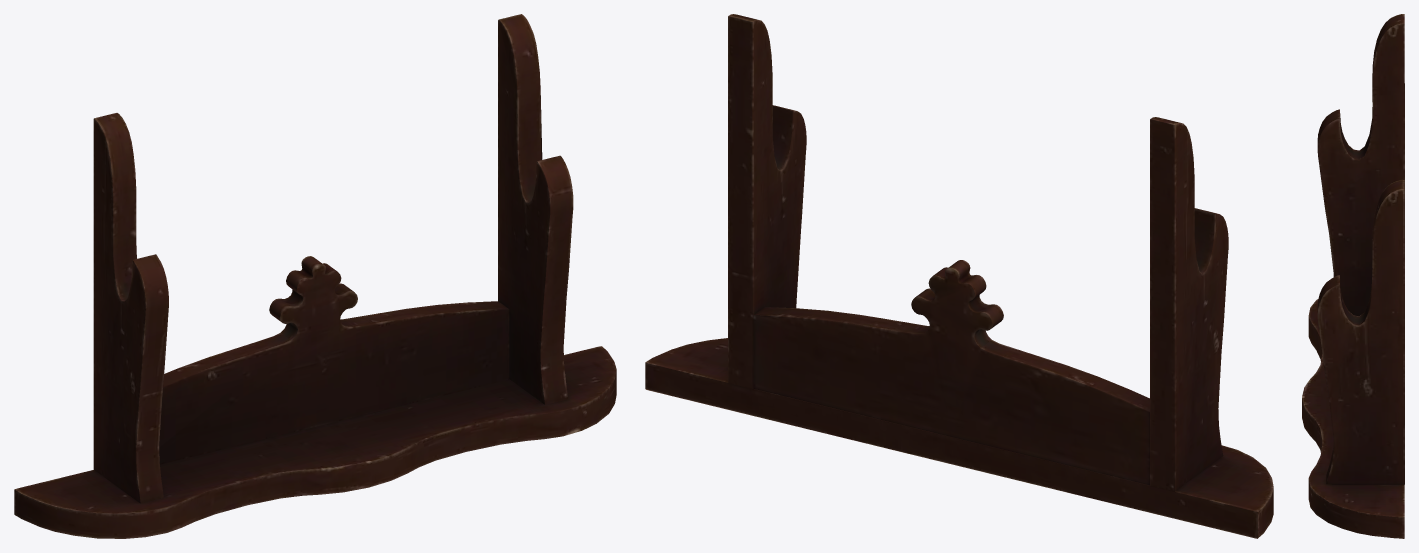
The model's file is katana_stand_01.glb.
3 renders of one model, left to right at view 1: azimuth 30°, elevation 25°; view 2: azimuth 150°, elevation 25°; view 3: azimuth 270°, elevation 25°, orthographic. The views are drawn at different scales.
Visible parts, largest first — view 1: katana_stand_01; view 2: katana_stand_01; view 3: katana_stand_01.
Boxes of the visible parts, x1,y1,x2,y2 form: katana_stand_01: (14,14,616,538); katana_stand_01: (645,14,1273,538); katana_stand_01: (1302,14,1404,538).
Size of the model in its own units: 0.2958 by 0.182 by 0.0534.
1 material, 1 textured.
